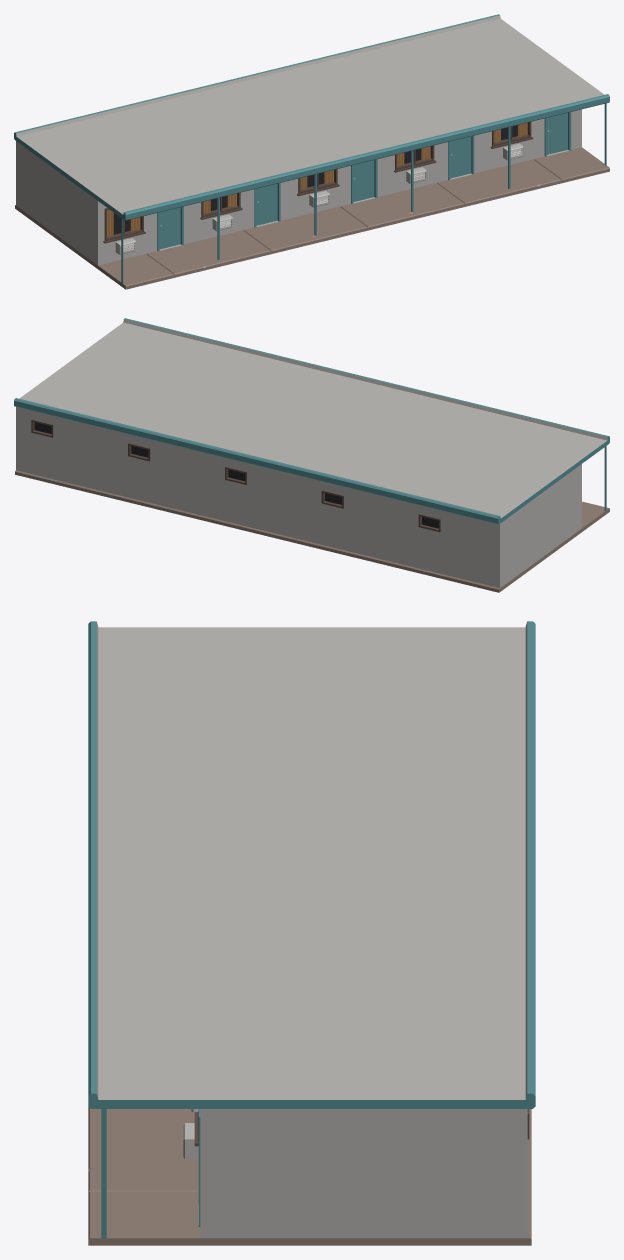
Rendered from motel-room-run-089f71.glb.
The picture shows the model from 3 angles, top to bottom: view 1: azimuth 30°, elevation 25°; view 2: azimuth 150°, elevation 25°; view 3: azimuth 270°, elevation 25°; orthographic projection. The views are drawn at different scales.
Visible parts, largest first — view 1: run, door-2-leaf, door-4-leaf, door-1-leaf, door-3-leaf, door-5-leaf; view 2: run; view 3: run.
Boxes of the visible parts, bbox=[...] form: run: bbox=[14, 14, 609, 289]; door-2-leaf: bbox=[256, 183, 277, 225]; door-4-leaf: bbox=[450, 136, 471, 178]; door-1-leaf: bbox=[159, 207, 180, 249]; door-3-leaf: bbox=[353, 160, 374, 201]; door-5-leaf: bbox=[547, 113, 567, 154]; run: bbox=[14, 318, 609, 592]; run: bbox=[88, 621, 535, 1245].
Size of the model in its own units: 20 by 3 by 8.
